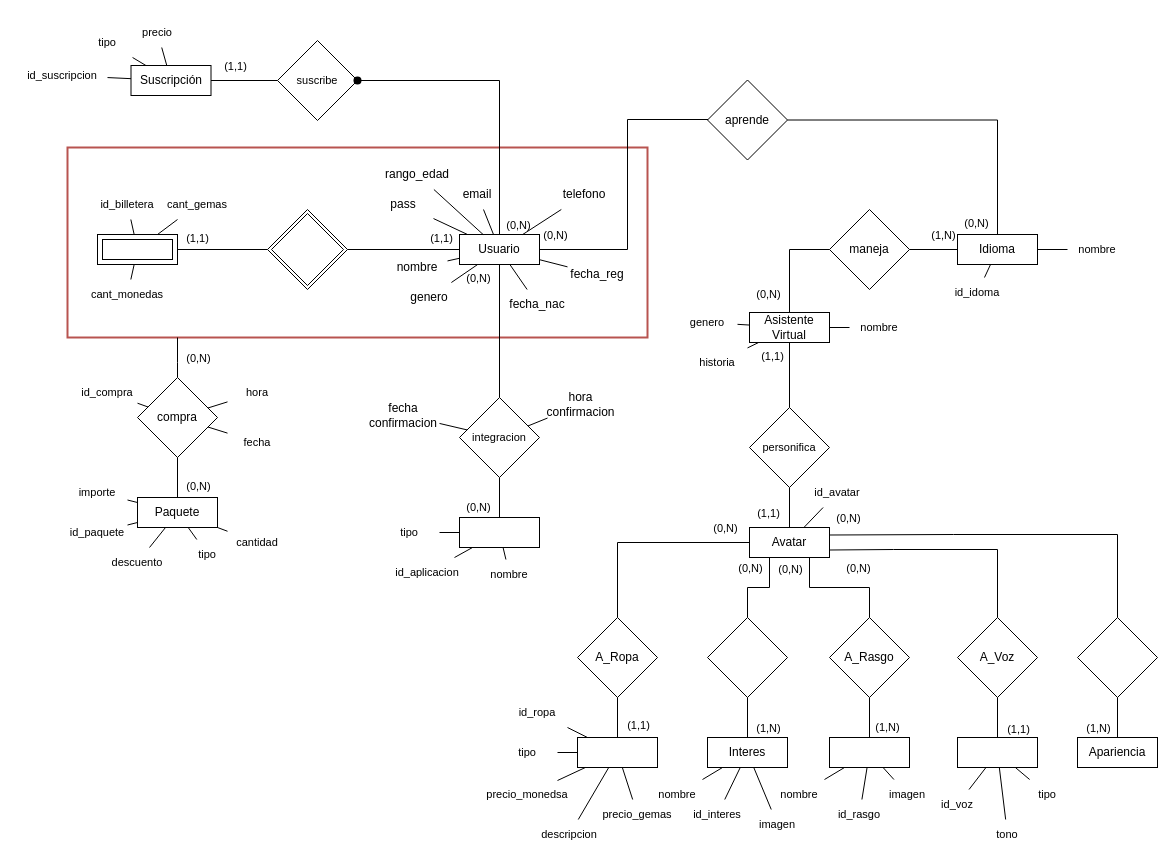
Some shapes in this 1175 by 866 pixel diagram are drawn without their labels. The shapes that lost their labels are listed below. From the top down, each one's centre as x and y in pixels, then its label:
the point at 137,249: Billetera
the point at 307,249: posee
the point at 499,532: Aplicación
the point at 747,657: A_Inte
the point at 1117,657: A_Apa
the point at 617,752: Ropa
the point at 869,752: Rasgo
the point at 997,752: Voz
